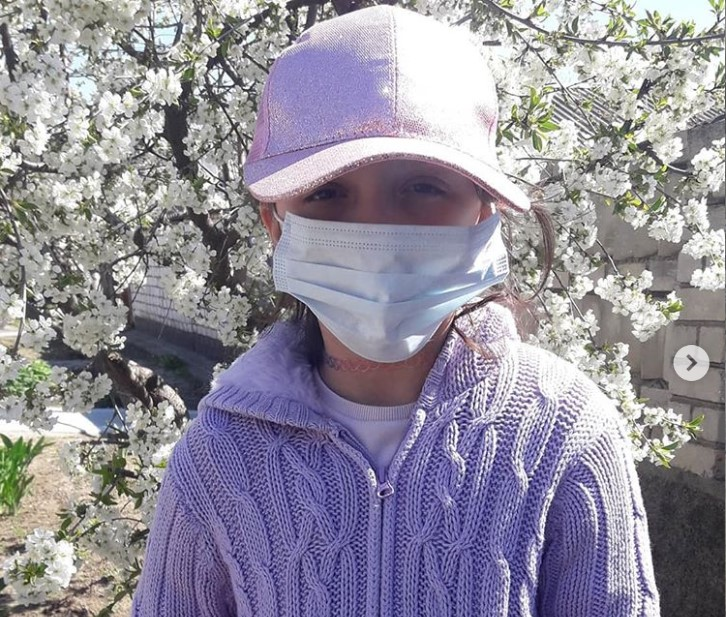face_with_mask: (243, 12, 534, 368)
